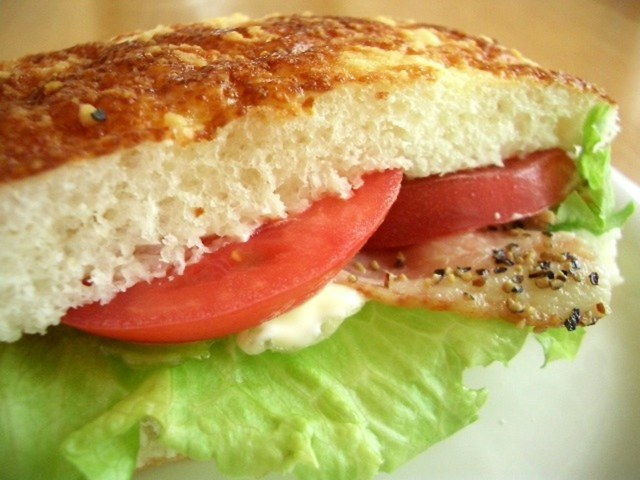tomato: (58, 167, 403, 343), (360, 146, 580, 250)
